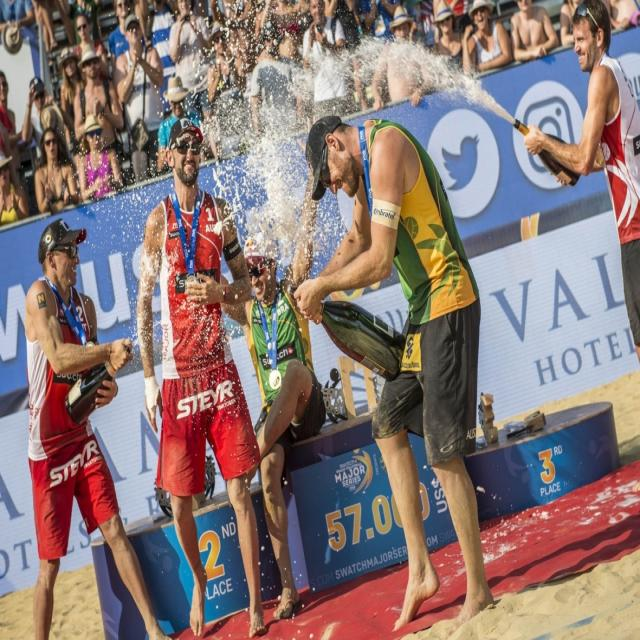body: (292, 115, 495, 640), (134, 113, 268, 639), (22, 215, 176, 640), (215, 114, 325, 622), (522, 0, 640, 364), (195, 0, 306, 79), (114, 14, 165, 182), (167, 0, 218, 164), (320, 0, 374, 138), (249, 19, 307, 142), (371, 4, 432, 113), (0, 0, 102, 65), (359, 0, 471, 59), (301, 0, 352, 126), (206, 20, 251, 161), (72, 43, 124, 152), (21, 74, 74, 168), (155, 74, 205, 173), (33, 125, 80, 214), (78, 112, 124, 202), (461, 0, 513, 79), (146, 0, 178, 123), (559, 0, 640, 48), (56, 42, 89, 157), (510, 0, 559, 62), (0, 70, 28, 178), (107, 0, 147, 75), (73, 12, 111, 83), (0, 148, 31, 225), (431, 0, 464, 72), (132, 0, 152, 47)
